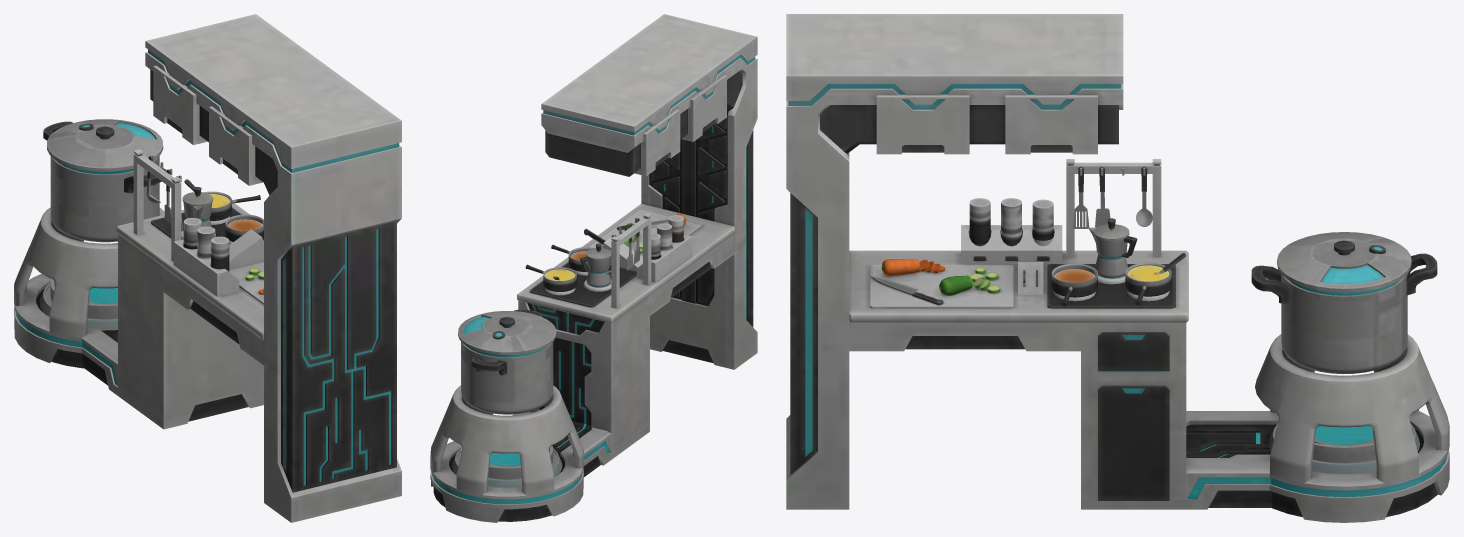
The model's file is SM_KitchenAncient_6ae15e.glb.
The picture shows the model from 3 angles, left to right: view 1: azimuth 30°, elevation 25°; view 2: azimuth 150°, elevation 25°; view 3: azimuth 270°, elevation 25°; orthographic projection. The views are drawn at different scales.
Size of the model in its own units: 1 by 2.27 by 3.15.
Materials: 2 (2 with a texture image).
